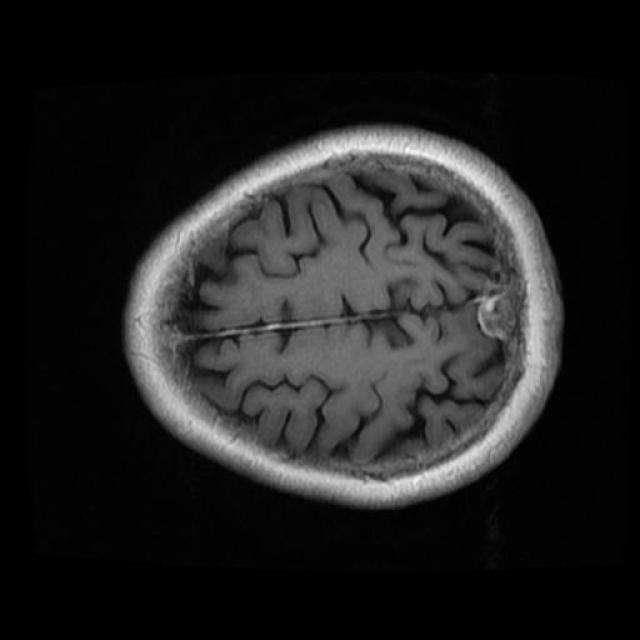Meningioma: (475, 290, 515, 341)
